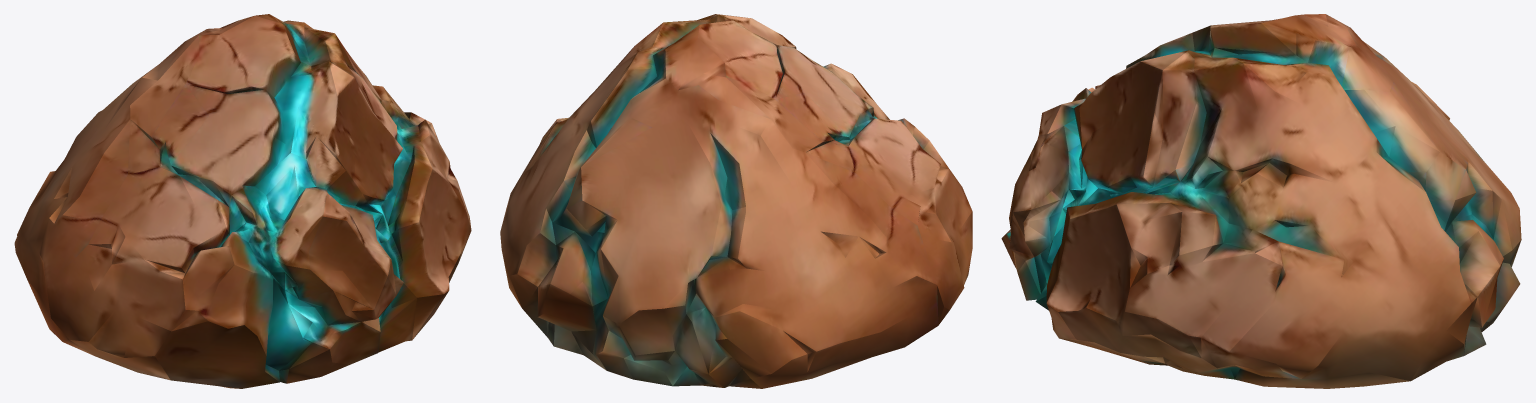
The model's file is sampleRock.glb.
3 renders of one model, left to right at view 1: azimuth 30°, elevation 25°; view 2: azimuth 150°, elevation 25°; view 3: azimuth 270°, elevation 25°, orthographic. The views are drawn at different scales.
Visible parts, largest first — view 1: model; view 2: model; view 3: model.
Part boxes in pixels (left/top/right/bottom): model: left=14, top=14, right=471, bottom=388; model: left=500, top=14, right=972, bottom=388; model: left=1001, top=14, right=1521, bottom=388.
Bounding box in the file's own units: 1.9 × 1.35 × 1.89.
Materials: 1 (1 with a texture image).
